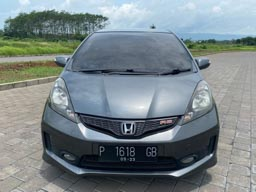plat: (98, 145, 158, 157)
